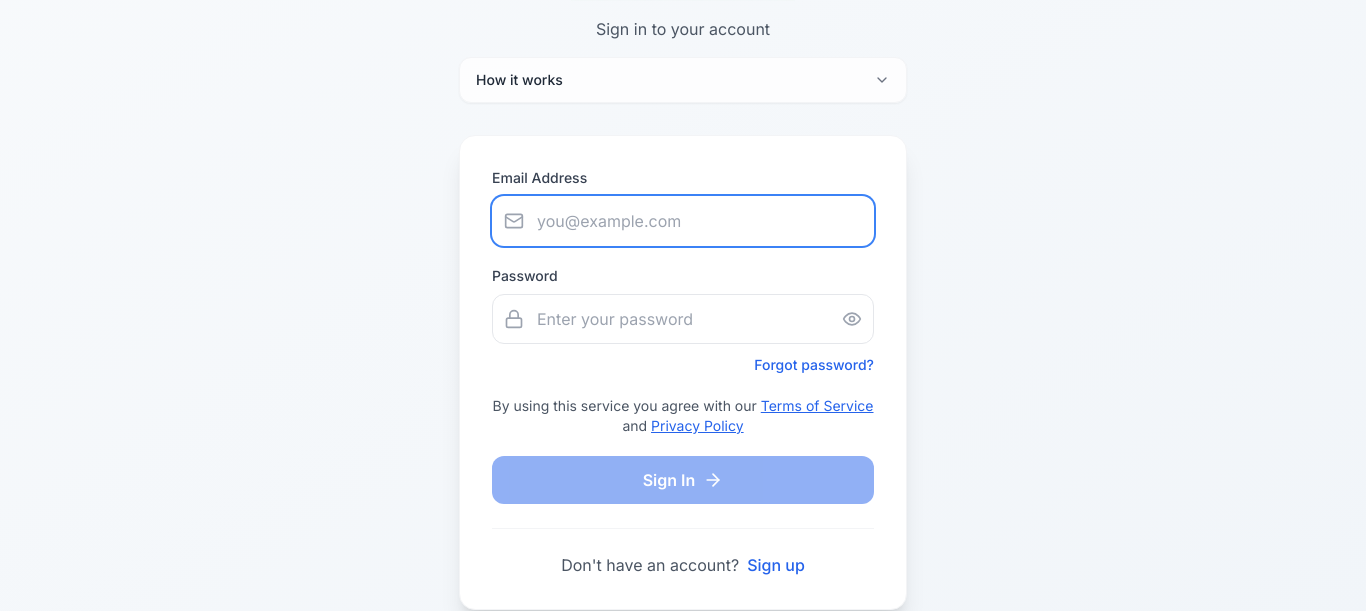
Test case: AuthPage — sign-up mode › switches to sign-up mode when Sign up button clicked
The image size is (1366, 611).
(page scrolled)
Click the button "Sign up" at (776, 565), box [747,553,805,577]
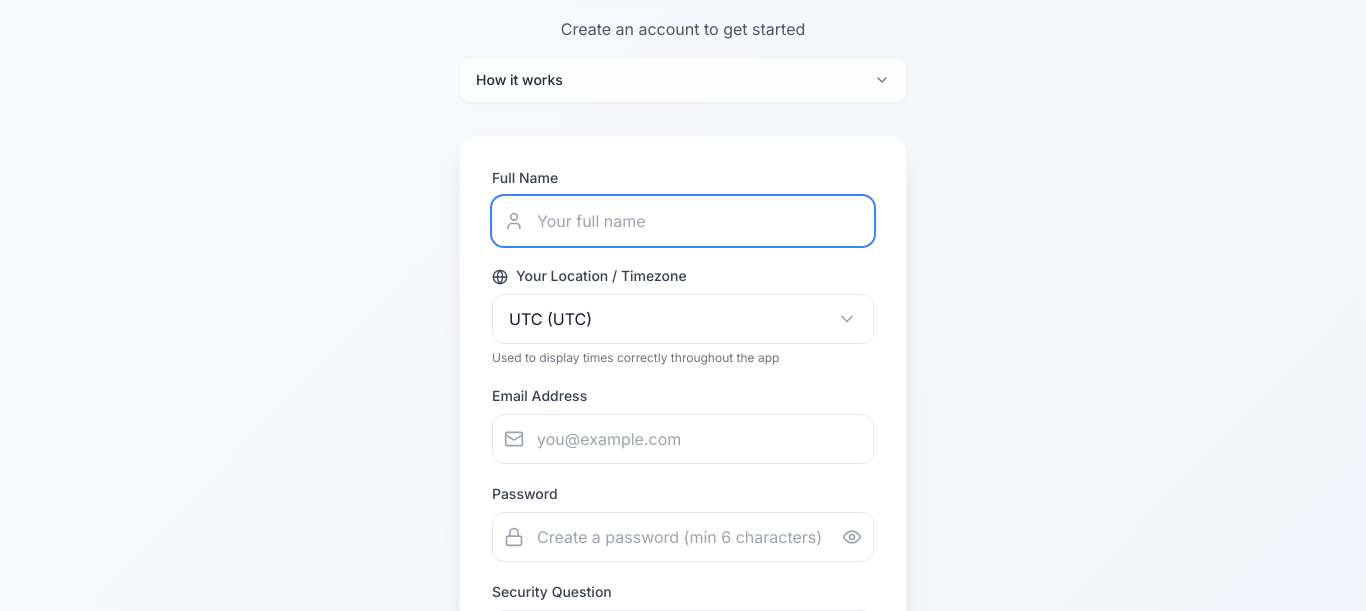
expect the field with placeholder "Your full name" is shown: met, box [492,196,874,246]
